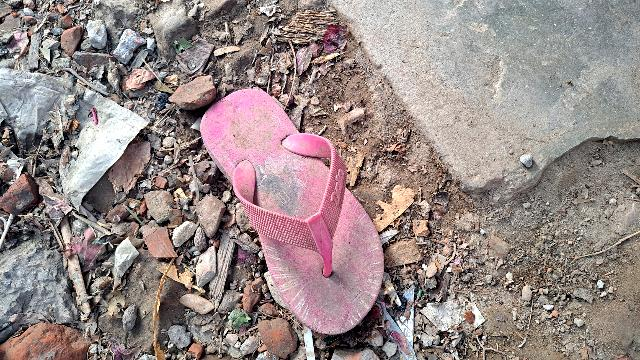sandal: (169, 57, 406, 349)
